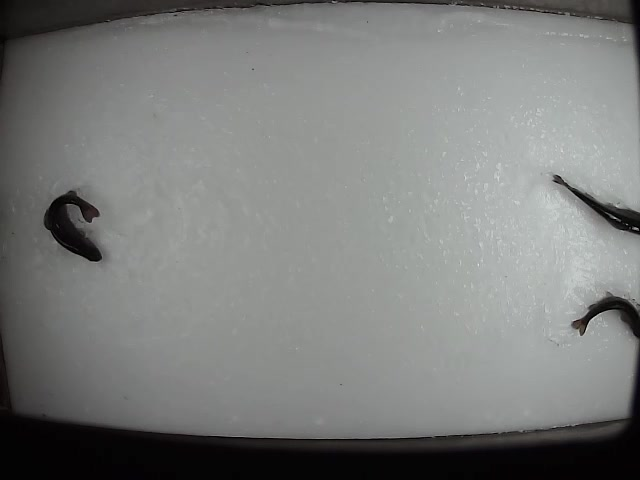Fish: (44, 190, 102, 262)
